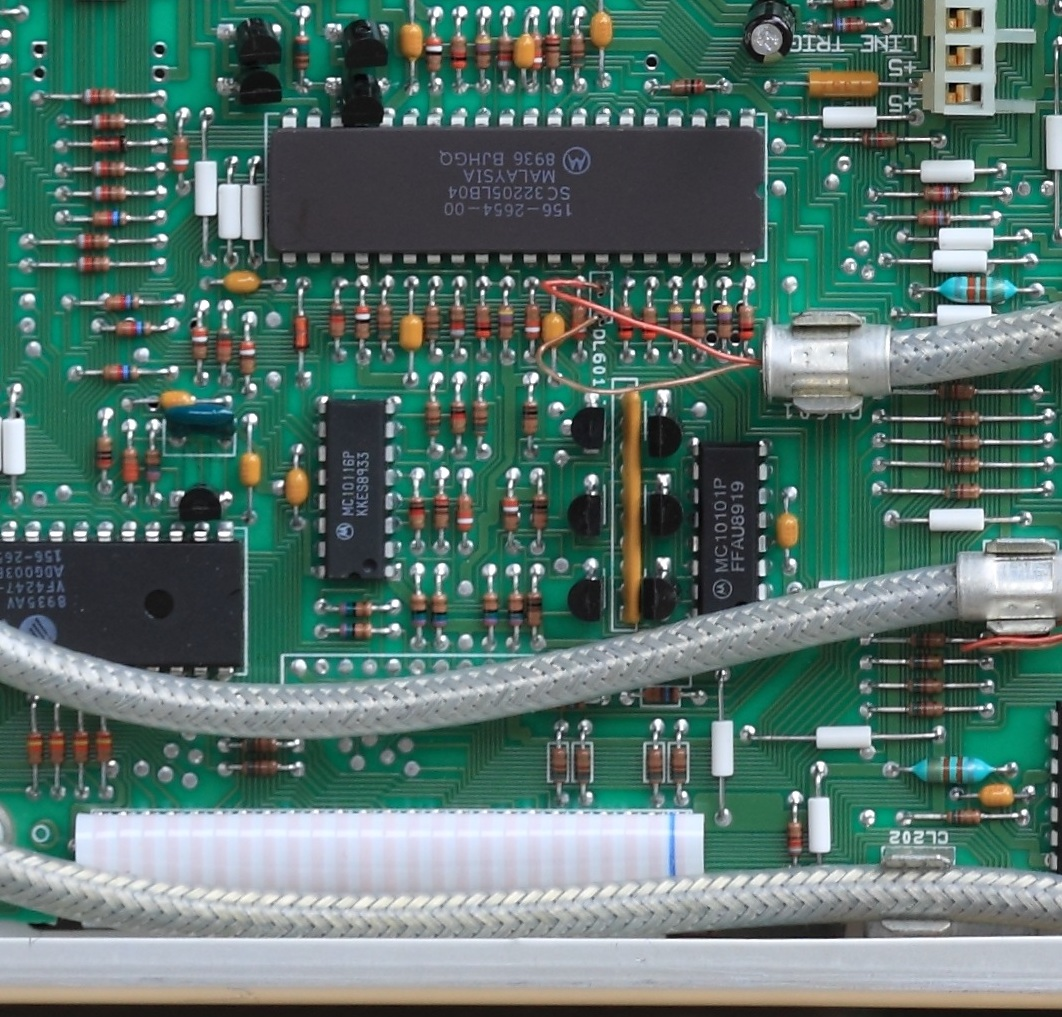Capacitor: (738, 1, 800, 65)
Diode: (82, 132, 140, 156), (288, 304, 313, 358)
Resistor: (930, 273, 1030, 306), (904, 753, 1002, 786), (923, 380, 988, 403), (893, 676, 959, 698), (893, 698, 958, 720), (897, 651, 959, 673), (73, 83, 127, 108), (931, 432, 995, 453), (933, 454, 995, 475), (937, 480, 991, 504), (851, 128, 904, 152), (933, 408, 993, 429), (428, 487, 453, 537), (468, 393, 493, 443), (420, 395, 445, 445), (541, 25, 565, 77), (523, 583, 548, 632), (350, 295, 373, 348), (404, 488, 428, 538), (528, 485, 551, 537), (331, 597, 385, 619), (713, 295, 735, 349), (904, 207, 960, 228), (478, 585, 502, 634), (373, 298, 396, 349), (499, 488, 522, 539), (421, 30, 445, 78), (235, 733, 283, 757), (67, 230, 117, 253), (118, 440, 143, 486), (93, 723, 116, 773), (915, 184, 967, 206), (98, 361, 145, 385), (23, 725, 47, 772), (686, 297, 709, 346), (45, 725, 70, 770), (68, 253, 119, 275), (423, 294, 444, 347), (325, 296, 348, 344), (83, 157, 133, 179), (547, 740, 570, 787), (86, 208, 135, 230), (446, 394, 468, 443), (614, 296, 636, 345), (735, 295, 756, 346), (93, 430, 115, 478), (783, 814, 805, 862), (822, 15, 872, 36), (453, 489, 474, 539), (664, 296, 685, 346), (940, 805, 985, 828), (492, 30, 514, 77), (100, 290, 147, 312), (110, 317, 157, 339), (472, 295, 493, 344), (84, 183, 130, 205), (168, 131, 191, 175), (408, 585, 430, 631), (495, 299, 517, 345), (428, 587, 449, 635), (570, 741, 594, 783), (331, 620, 381, 640), (290, 30, 312, 75), (448, 298, 469, 345), (570, 296, 591, 343), (71, 724, 91, 773), (505, 585, 525, 634), (234, 758, 288, 776), (522, 295, 541, 346), (213, 323, 235, 367), (668, 739, 690, 783), (639, 683, 683, 705), (472, 28, 493, 74), (638, 299, 659, 345), (143, 440, 161, 493), (237, 335, 257, 382), (190, 320, 209, 369), (903, 631, 951, 650), (520, 398, 541, 441), (448, 30, 468, 75), (88, 112, 132, 132), (528, 27, 546, 75), (567, 25, 585, 73), (645, 743, 665, 786), (664, 78, 710, 95), (821, 1, 875, 13)
